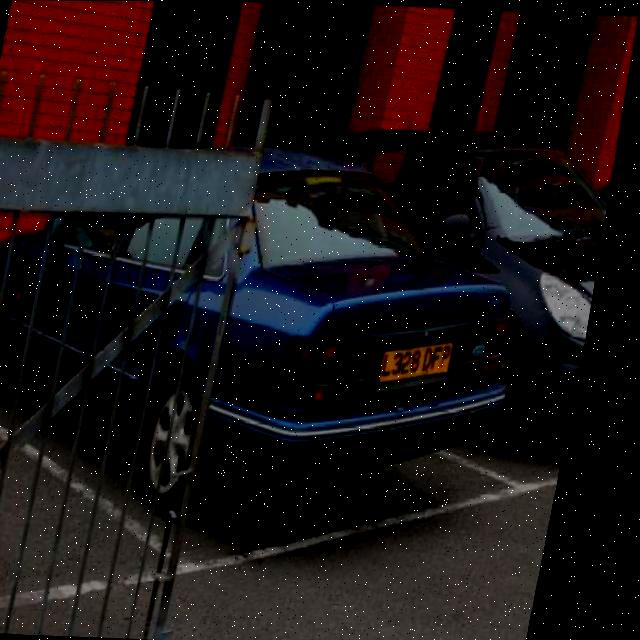license_plate: (391, 339, 466, 384)
